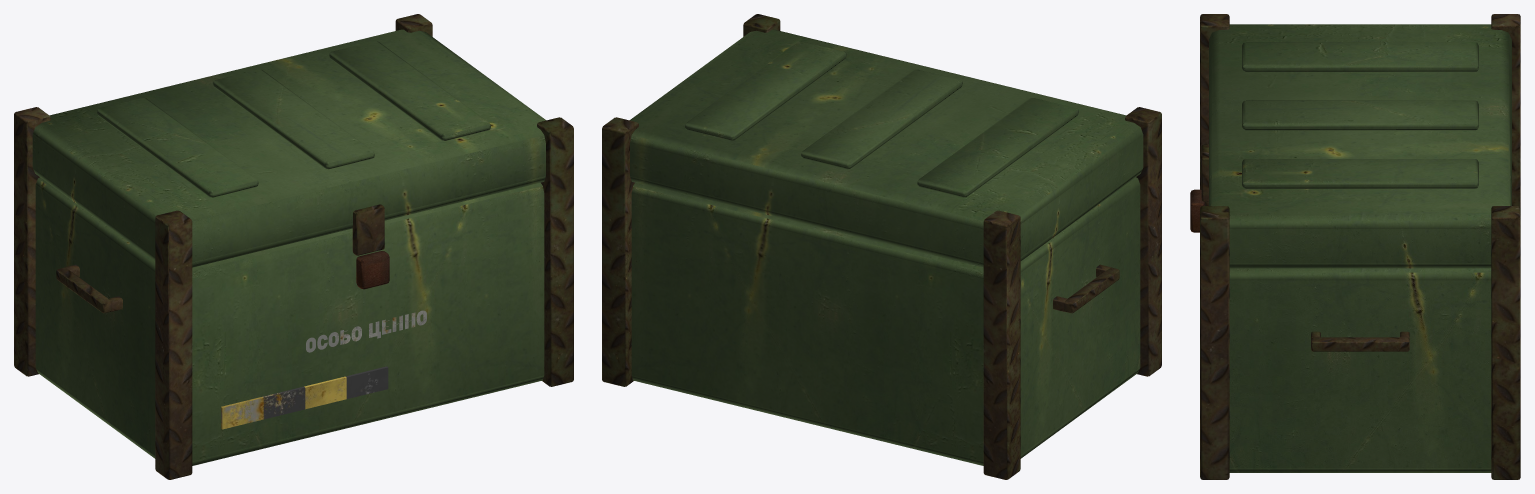
The model's file is loot_crate_elite.glb.
The picture shows the model from 3 angles, left to right: view 1: azimuth 30°, elevation 25°; view 2: azimuth 150°, elevation 25°; view 3: azimuth 270°, elevation 25°; orthographic projection. The views are drawn at different scales.
Parts seen in each view (by area): view 1: box, box.001, box.005, box.007, box.003, box.004, box.002, box.006, box.013, stencil, box.014, box.012 (+4 smaller); view 2: box, box.001, box.006, box.008, box.003, box.004, box.002, box.005, box.015; view 3: box, box.001, box.008, box.007, box.003, box.002, box.004, box.006, box.005, box.018, box.014, box.013.
Boxes of the visible parts, x1=… form: box: x1=35, y1=177, x2=544, y2=465; box.001: x1=32, y1=29, x2=546, y2=267; box.005: x1=155, y1=210, x2=192, y2=479; box.007: x1=537, y1=117, x2=573, y2=386; box.003: x1=213, y1=69, x2=374, y2=169; box.004: x1=329, y1=41, x2=490, y2=140; box.002: x1=97, y1=98, x2=258, y2=197; box.006: x1=14, y1=107, x2=50, y2=376; box.013: x1=352, y1=204, x2=384, y2=255; stencil: x1=306, y1=310, x2=426, y2=352; box.014: x1=356, y1=251, x2=389, y2=289; box.012: x1=345, y1=366, x2=388, y2=398; box: x1=631, y1=177, x2=1140, y2=465; box.001: x1=629, y1=29, x2=1143, y2=267; box.006: x1=983, y1=210, x2=1020, y2=479; box.008: x1=602, y1=117, x2=638, y2=386; box.003: x1=801, y1=69, x2=962, y2=169; box.004: x1=685, y1=41, x2=846, y2=140; box.002: x1=917, y1=98, x2=1078, y2=197; box.005: x1=1125, y1=107, x2=1161, y2=376; box.015: x1=1064, y1=267, x2=1119, y2=313; box: x1=1229, y1=268, x2=1491, y2=472; box.001: x1=1209, y1=24, x2=1511, y2=268; box.008: x1=1491, y1=206, x2=1520, y2=479; box.007: x1=1200, y1=206, x2=1229, y2=479; box.003: x1=1242, y1=100, x2=1478, y2=130; box.002: x1=1242, y1=42, x2=1478, y2=71; box.004: x1=1242, y1=159, x2=1478, y2=188; box.006: x1=1491, y1=14, x2=1520, y2=207; box.005: x1=1200, y1=14, x2=1229, y2=205; box.018: x1=1311, y1=337, x2=1409, y2=351; box.014: x1=1190, y1=189, x2=1204, y2=232; box.013: x1=1201, y1=144, x2=1208, y2=201.
Size of the model in its own units: 1.03 by 0.598 by 0.67.
6 materials, 6 textured.
